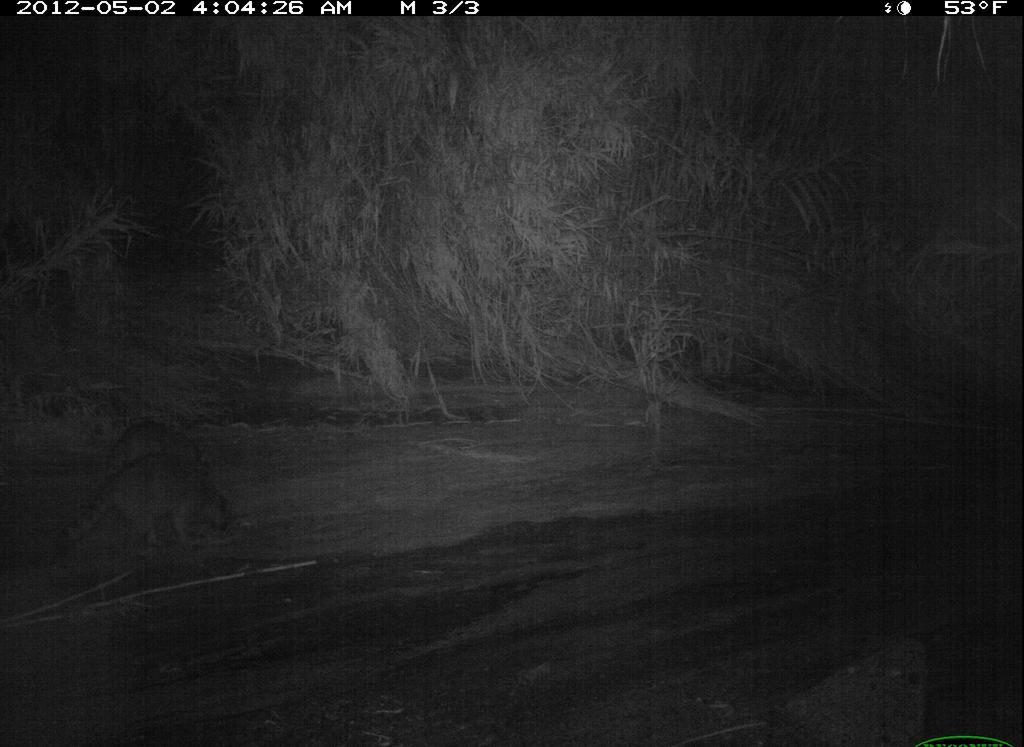raccoon: (52, 455, 245, 566), (98, 416, 222, 488)
